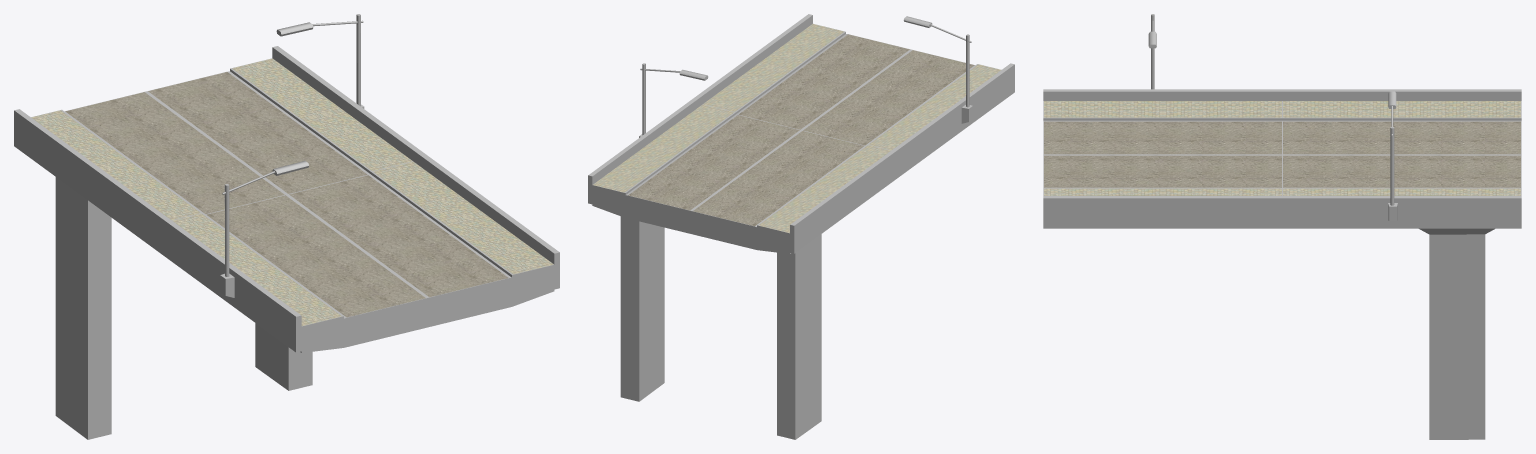
The model's file is road_hi_01a.fbx.
The picture shows the model from 3 angles, left to right: view 1: azimuth 30°, elevation 25°; view 2: azimuth 150°, elevation 25°; view 3: azimuth 270°, elevation 25°; orthographic projection. The views are drawn at different scales.
Parts seen in each view (by area): view 1: road_hi_01a; view 2: road_hi_01a; view 3: road_hi_01a.
Part boxes in pixels (<box>): road_hi_01a: <box>14,14,559,439</box>; road_hi_01a: <box>588,14,1014,439</box>; road_hi_01a: <box>1043,14,1521,439</box>.
Bounding box in the file's own units: 27.7 × 36.05 × 48.
